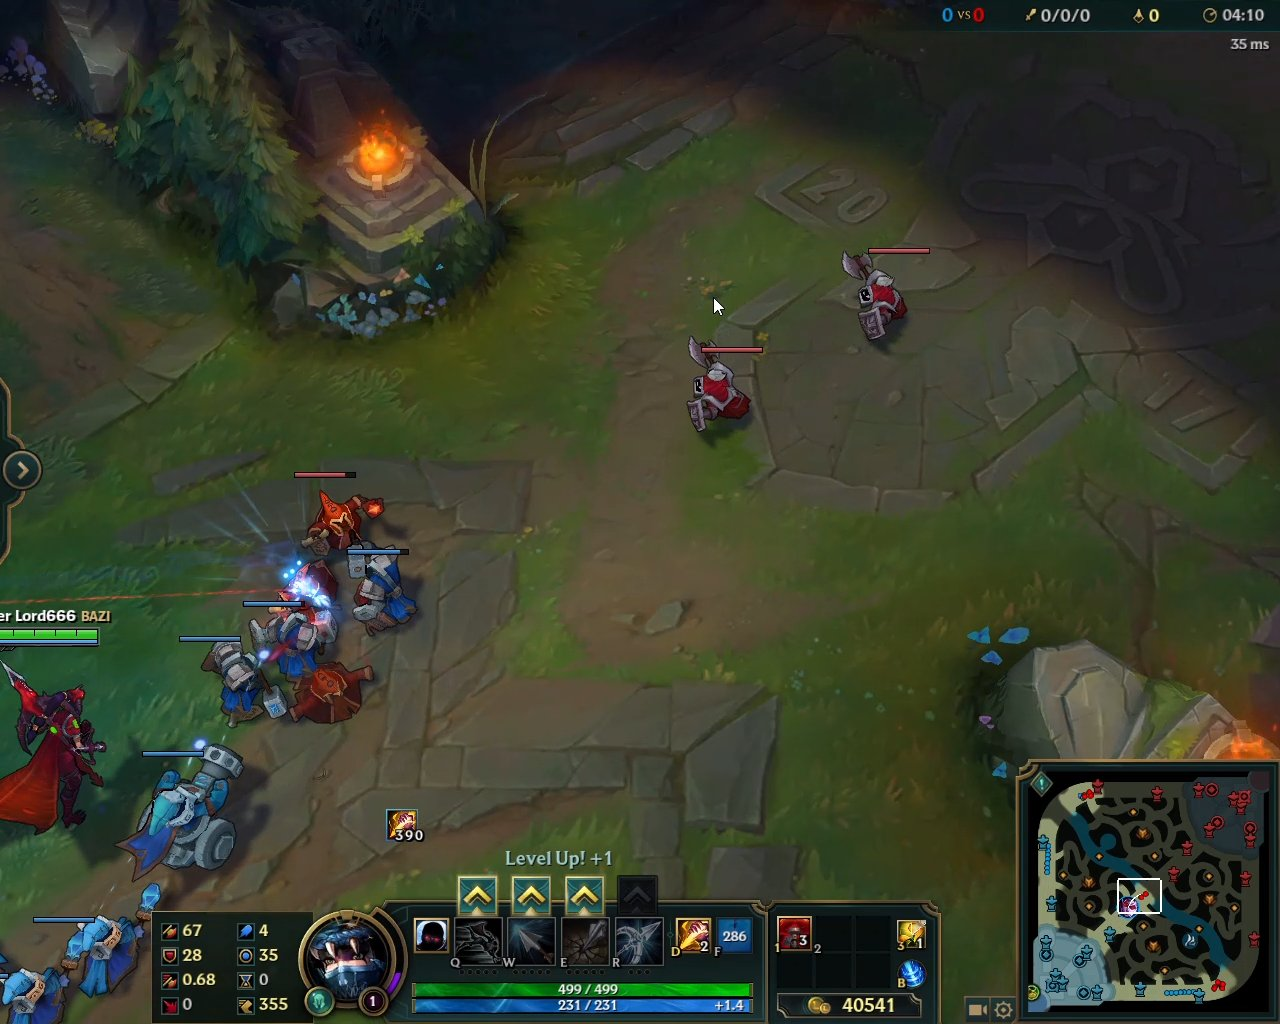EnemyMinion: (835, 248, 929, 345), (684, 336, 768, 444), (295, 470, 389, 563)
Vayne: (1, 655, 111, 841)
